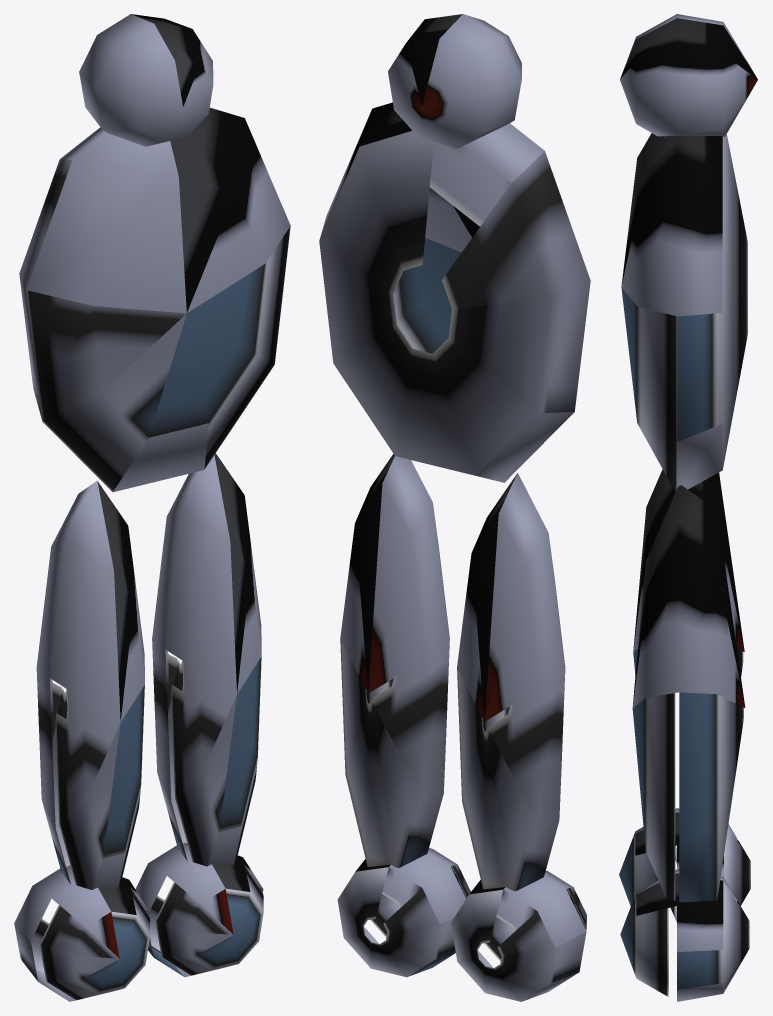
File: mini_mech.DAE
3 renders of one model, left to right at view 1: azimuth 30°, elevation 25°; view 2: azimuth 150°, elevation 25°; view 3: azimuth 270°, elevation 25°, orthographic.
Visible parts, largest first — view 1: Sphere01; view 2: Sphere01; view 3: Sphere01.
Boxes of the visible parts, bbox=[...] form: Sphere01: bbox=[14, 14, 290, 1001]; Sphere01: bbox=[319, 14, 590, 1001]; Sphere01: bbox=[619, 14, 757, 1001].
Size of the model in its own units: 0.5299 by 1.84 by 0.2459.
1 material, 1 textured.
